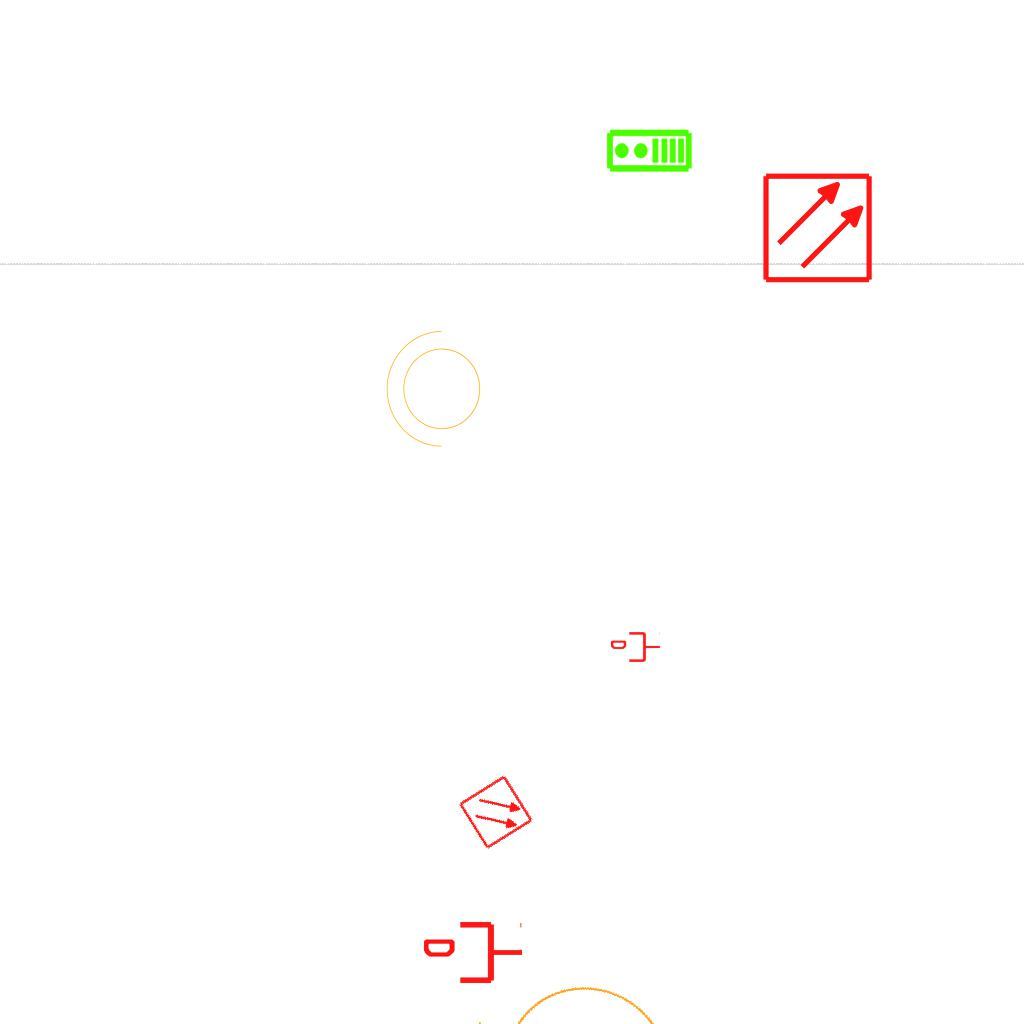Datenanschluss_einfach: (424, 918, 524, 987), (611, 630, 661, 664)
Gegensprechanlage_mit_Video: (605, 128, 693, 175)
RMO_Rauchmelder_optischer: (761, 171, 874, 284), (457, 773, 535, 851)
Scheinwerfer_fuer_Alarmbeleuchtung: (424, 922, 754, 1024), (381, 326, 493, 458)
